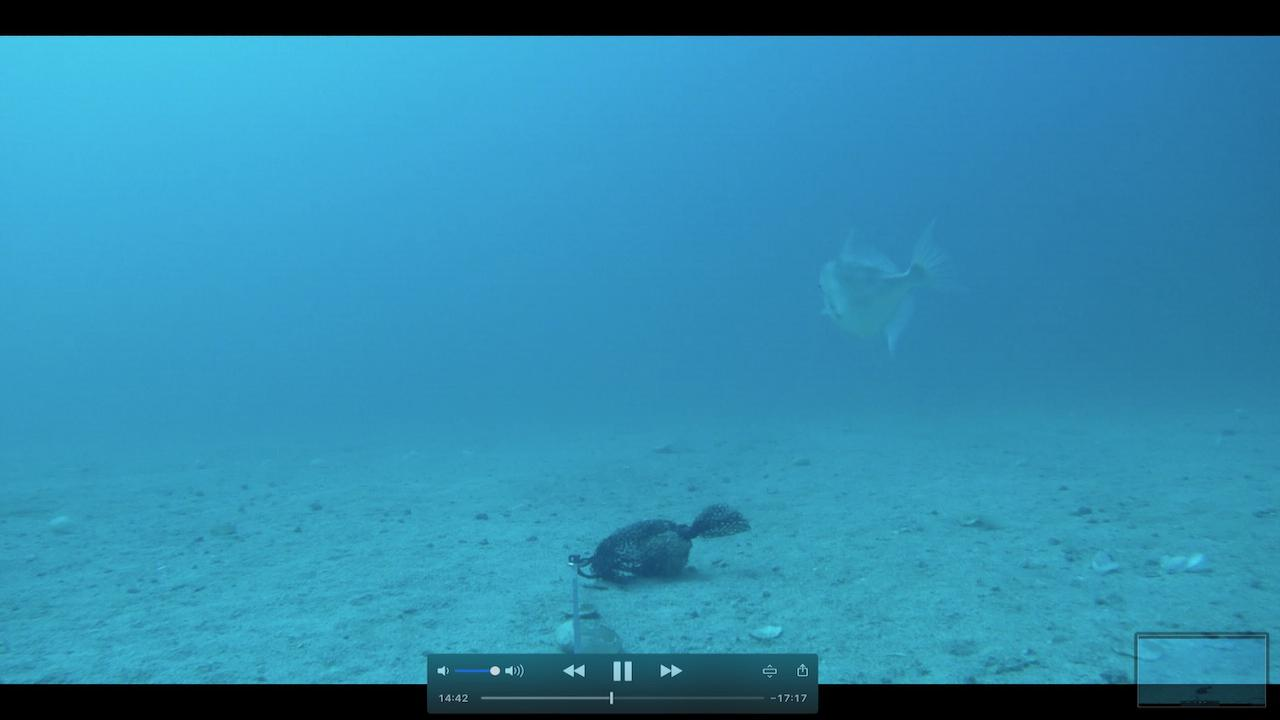balistes: (811, 210, 983, 360)
